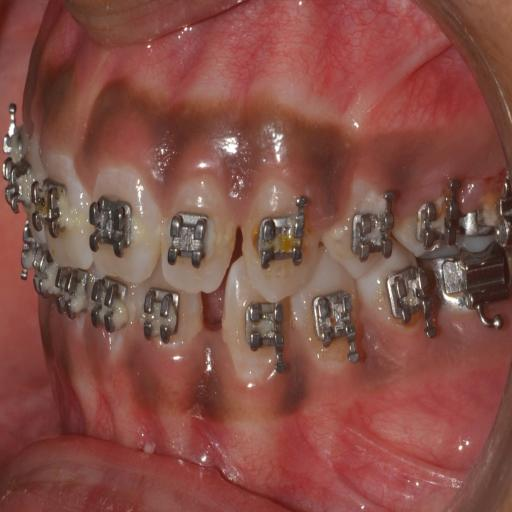correct_brace: (319, 166, 397, 276), (256, 202, 306, 273), (88, 189, 132, 263), (29, 174, 73, 245), (168, 201, 210, 272)
incorrect_brace: (158, 159, 234, 303), (345, 196, 396, 274)
